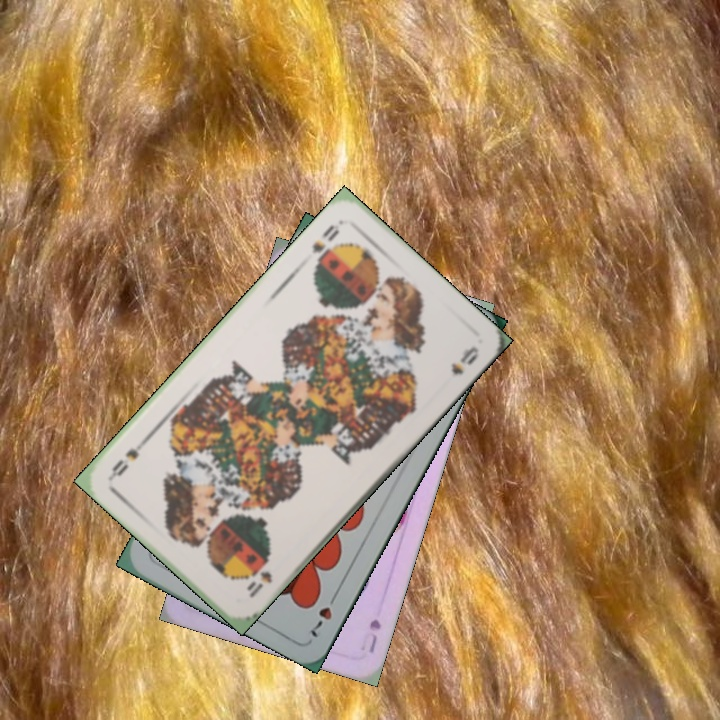H7: (305, 587, 341, 640)
SO: (242, 555, 275, 601), (308, 221, 342, 256)
SU: (356, 614, 384, 656)
